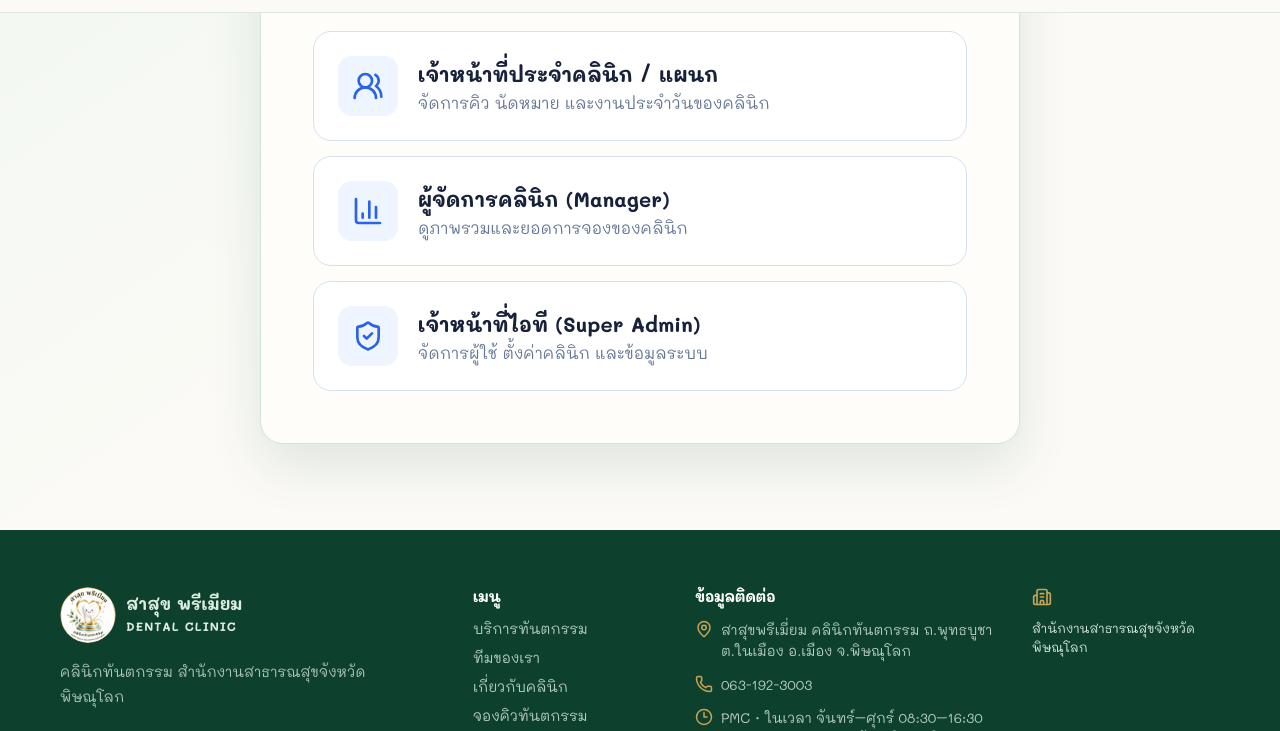
Scenario: ProviderID staff authentication UI › keeps the development role selector working in mock mode
(page scrolled)
Click the button "เจ้าหน้าที่ไอที" at (640, 336), box [313,281,967,391]
(page scrolled)
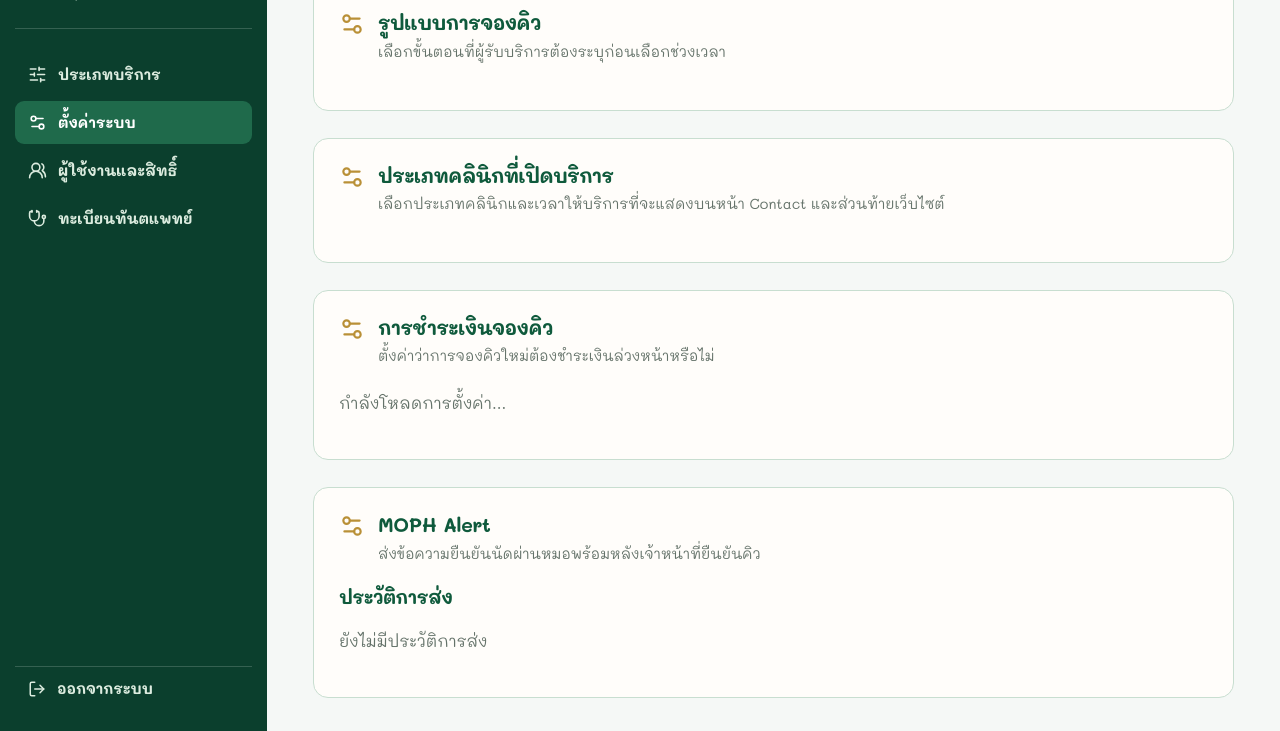
Check: the link "ผู้ใช้งานและสิทธิ์" is shown, box [28,161,178,180]
